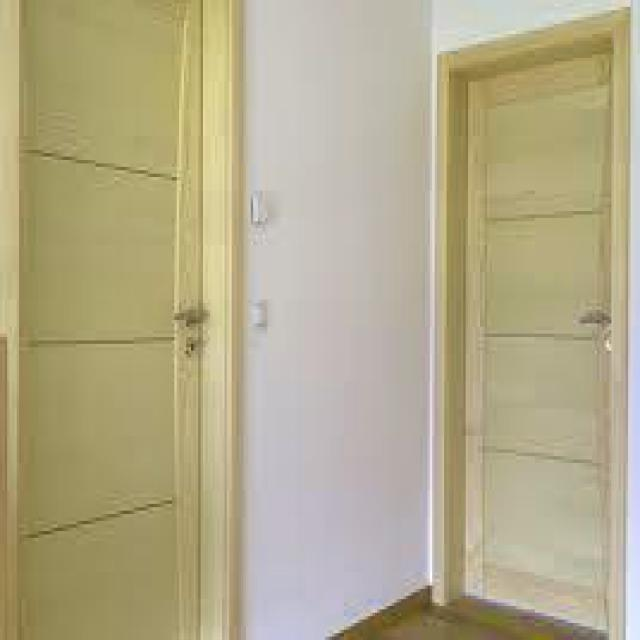door: (436, 5, 636, 638)
